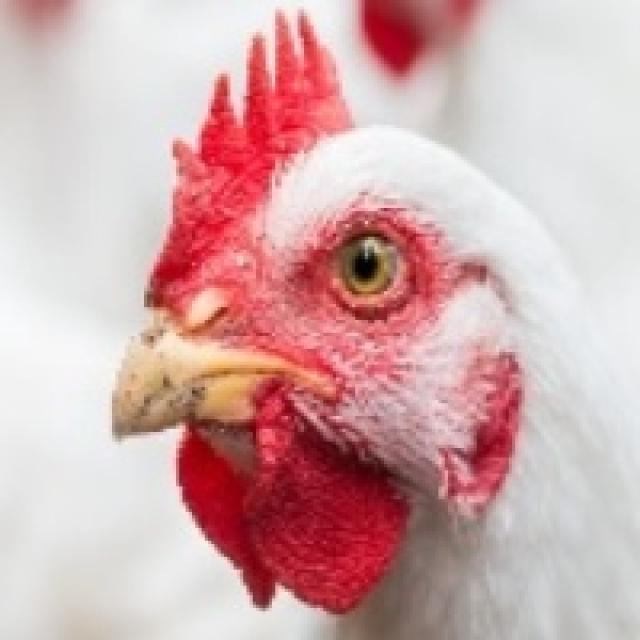Healthy: (109, 6, 640, 640)
